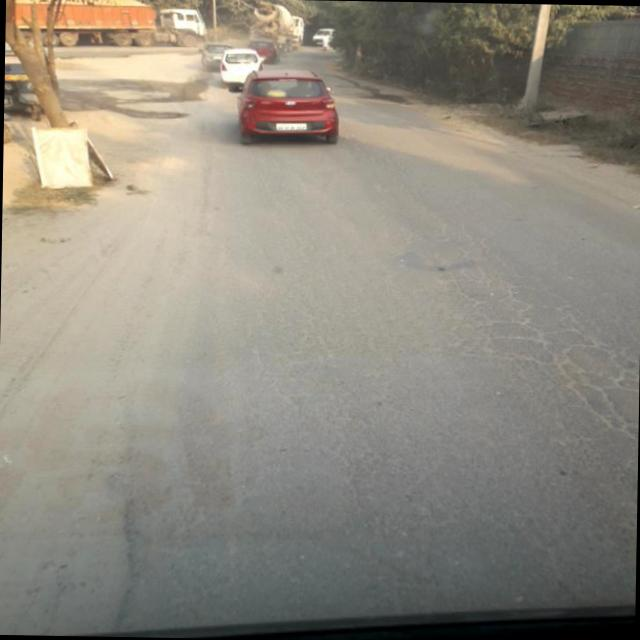crack: (177, 163, 640, 548)
